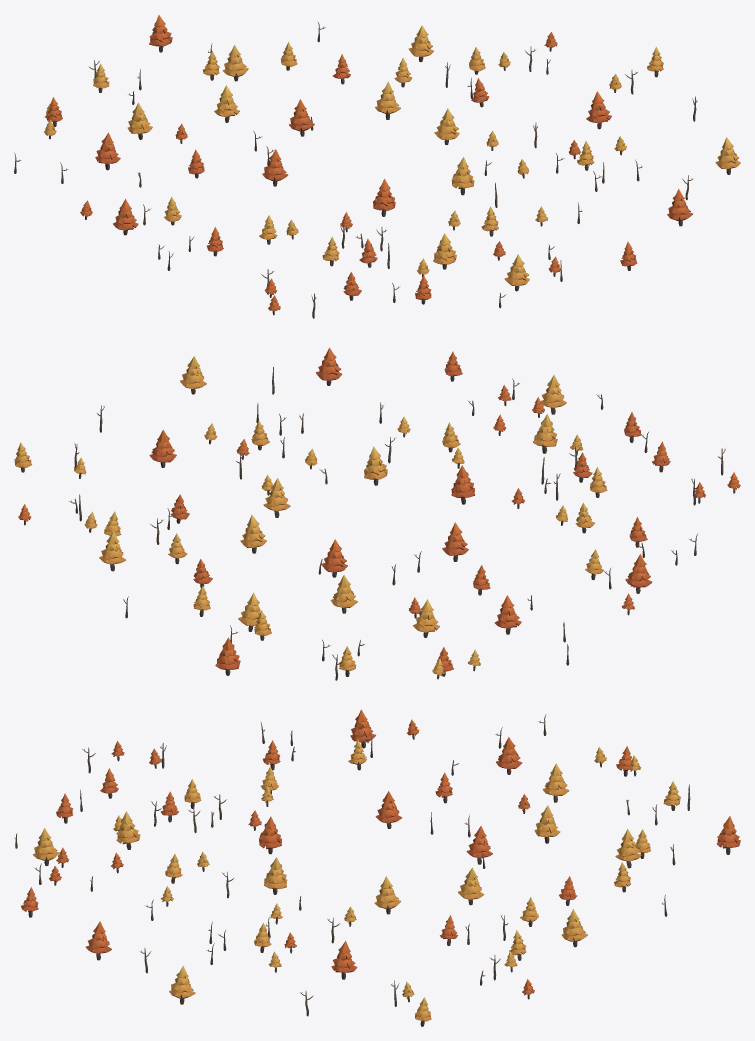
File: tree_ring.glb
The picture shows the model from 3 angles, top to bottom: view 1: azimuth 30°, elevation 25°; view 2: azimuth 150°, elevation 25°; view 3: azimuth 270°, elevation 25°; orthographic projection. The views are drawn at different scales.
Visible parts, largest first — view 1: no part large enough to name; view 2: tree_pine_orange_large.002, tree_pine_orange_large.006; view 3: no part large enough to name.
Boxes of the visible parts, x1,y1,x2,y2 form: tree_pine_orange_large.002: (625, 554, 652, 593); tree_pine_orange_large.006: (215, 637, 240, 675).
Bounding box in the file's own units: 355 × 21.5 × 371.
9 materials, 9 textured.
